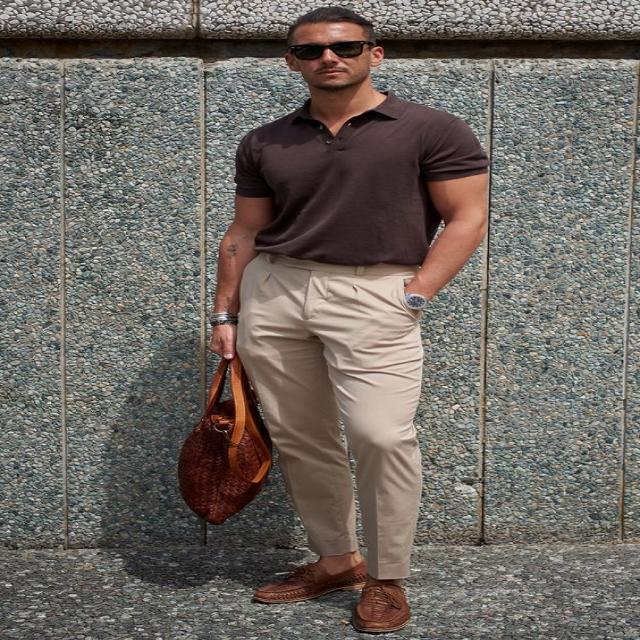shoulder: (236, 106, 478, 176)
